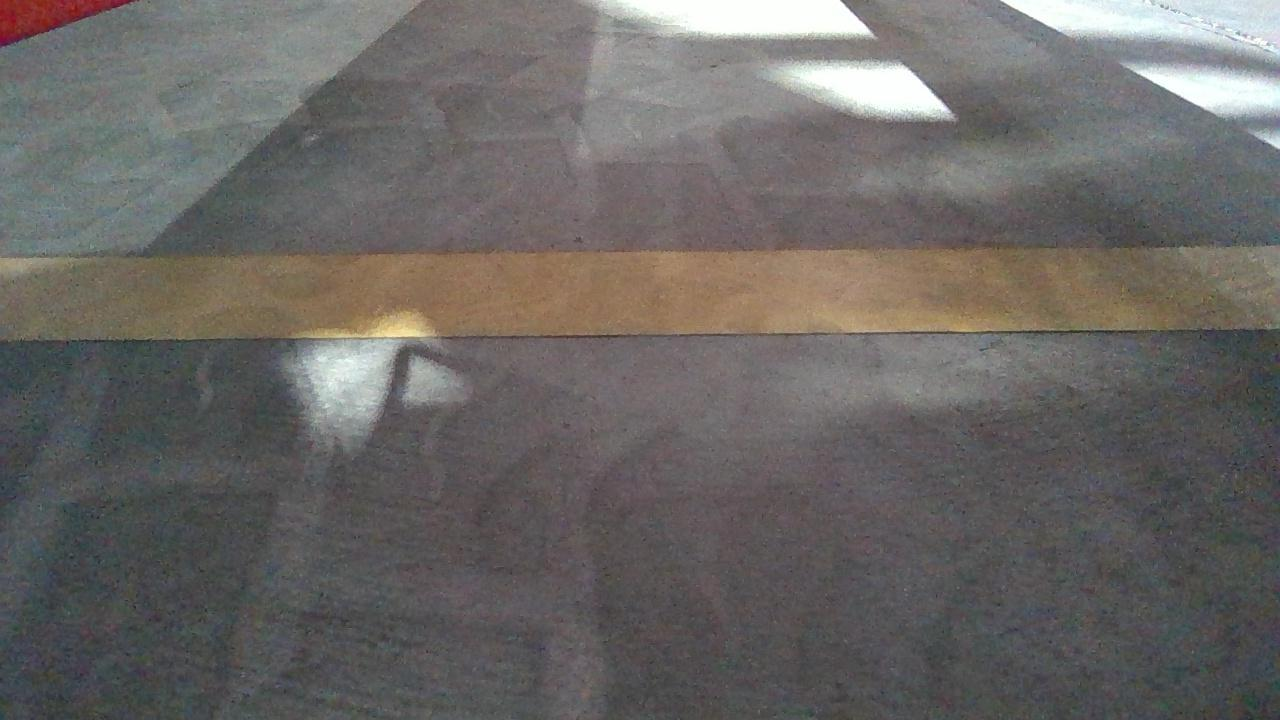yellow_line: (6, 248, 1280, 342)
